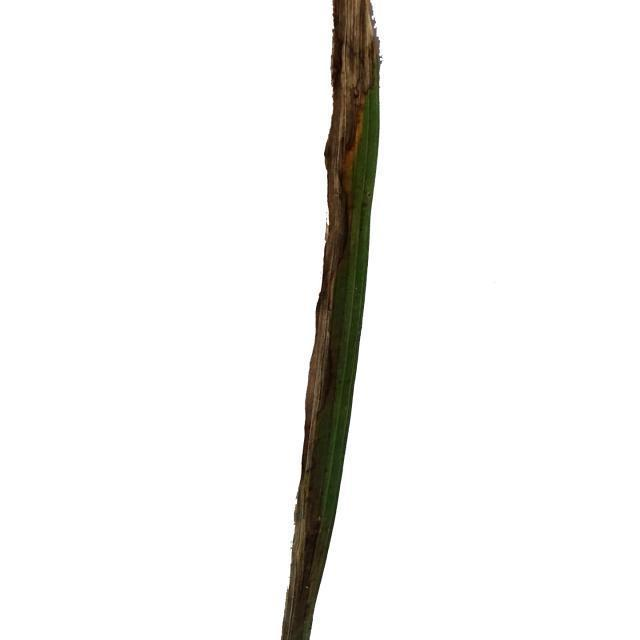Bacterial_Leaf_Blight: (329, 0, 380, 188), (320, 190, 340, 478), (294, 488, 325, 632)
